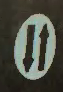Two way: (14, 9, 56, 85)
